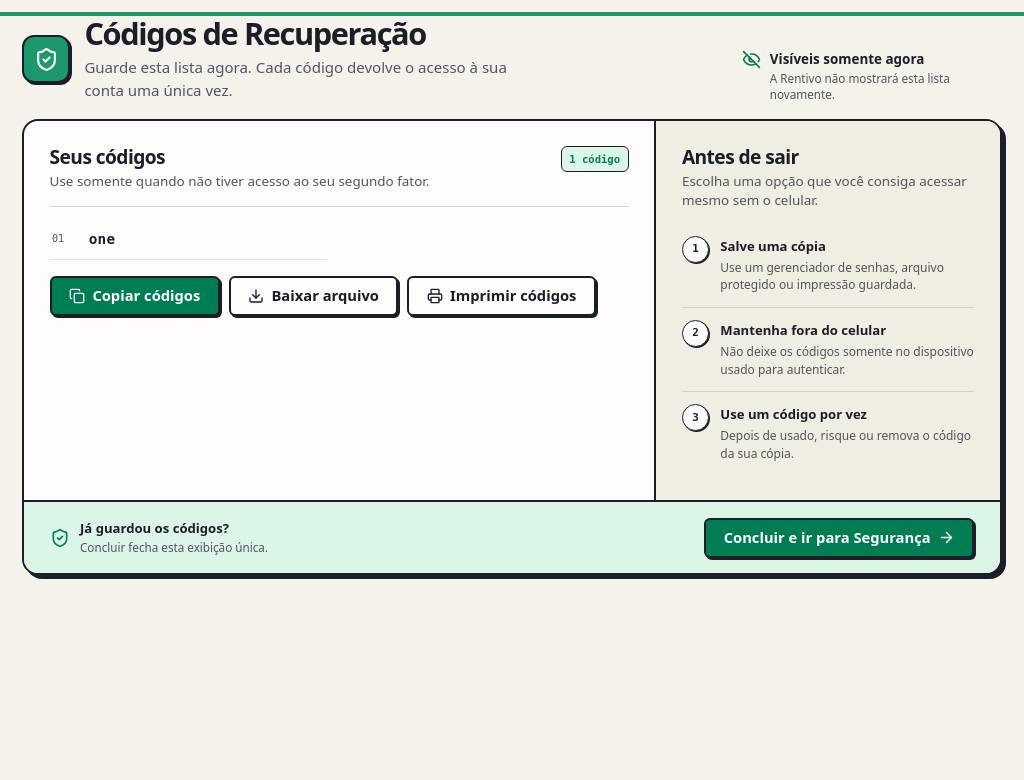
it: keeps the codes visible and focuses recovery guidance when refresh fails
Click the button "Concluir e ir para Segurança" at (839, 538), box x1=704 y1=518 x2=974 y2=558
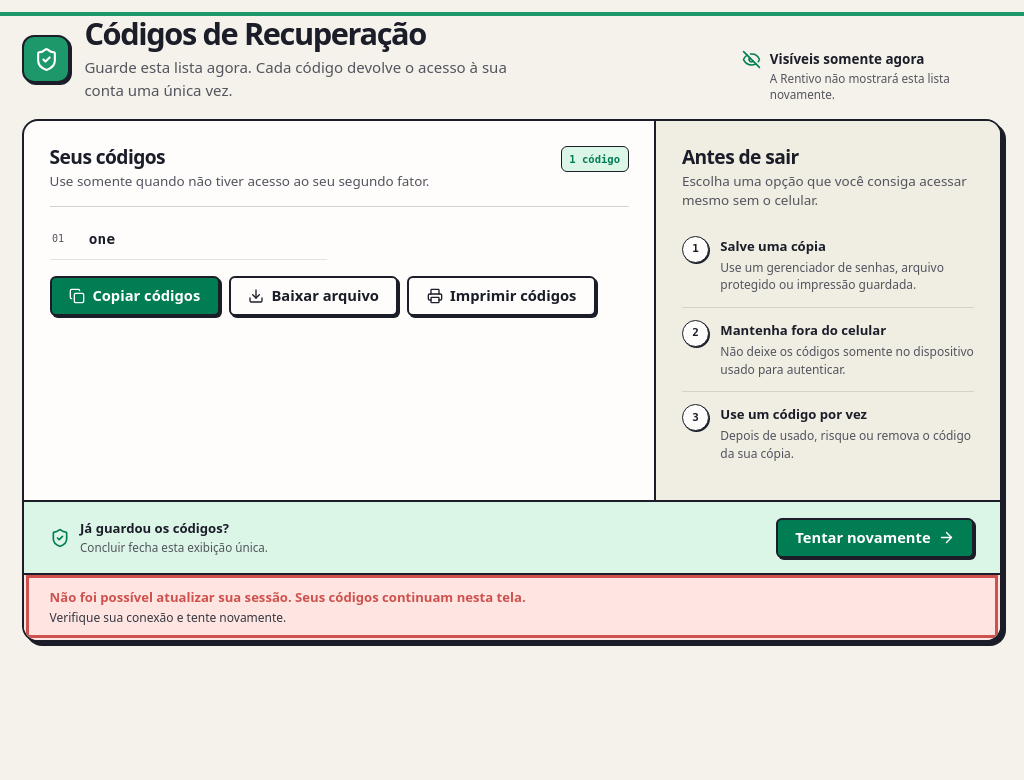
Expected: the text "one" is shown, x1=89 y1=231 x2=115 y2=247
Result: the message shows "Não foi possível atualizar sua sessão. Seus códigos continuam nesta tela." at x1=50 y1=588 x2=526 y2=606
Result: the button "Tentar novamente" is shown at x1=776 y1=518 x2=974 y2=558
